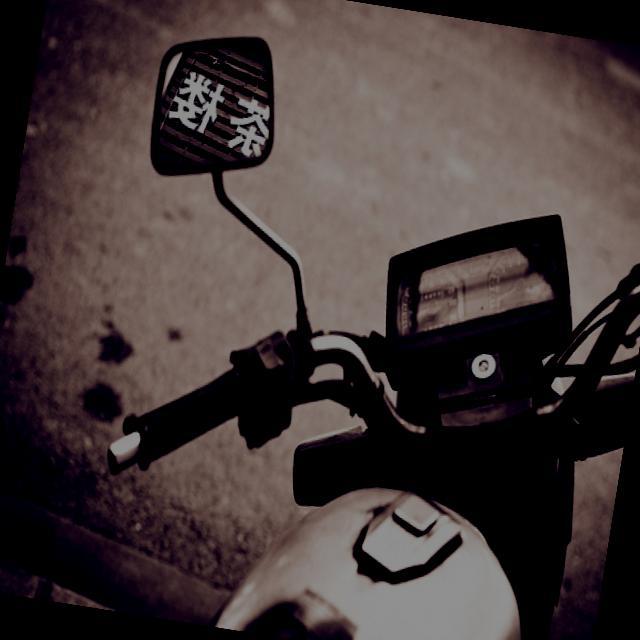Vehicle: (77, 24, 640, 640)
